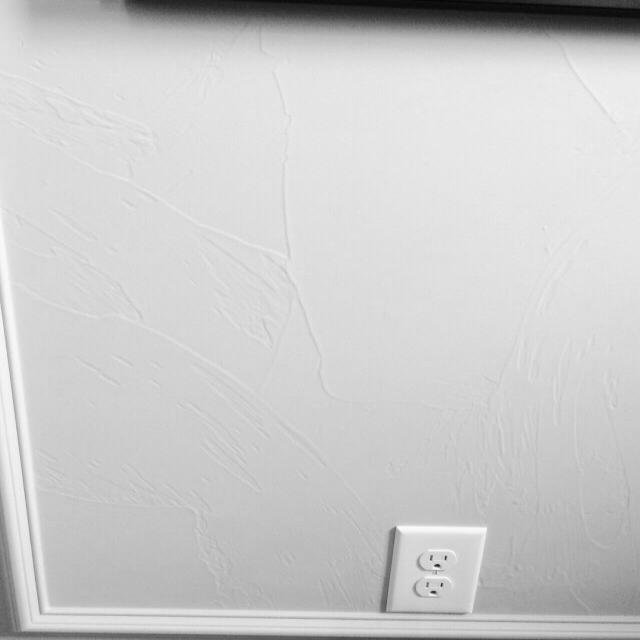trowels marks: (0, 11, 385, 612), (458, 215, 638, 614), (513, 8, 640, 165)
